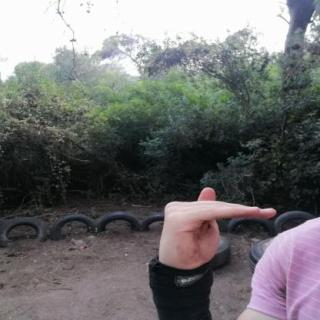KHAA: (141, 178, 296, 278)
